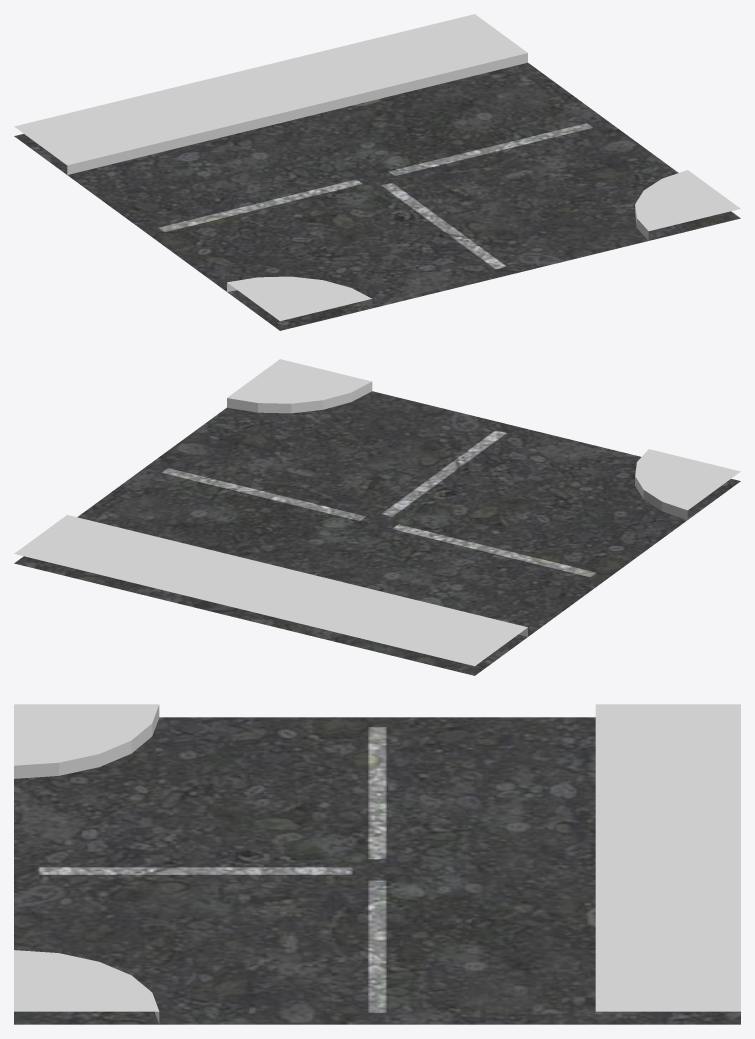
Rendered from road2.fbx.
The picture shows the model from 3 angles, top to bottom: view 1: azimuth 30°, elevation 25°; view 2: azimuth 150°, elevation 25°; view 3: azimuth 270°, elevation 25°; orthographic projection. The views are drawn at different scales.
Visible parts, largest first — view 1: Plane.001; view 2: Plane.001; view 3: Plane.001.
Part boxes in pixels (bbox=[...]): Plane.001: bbox=[14, 14, 740, 330]; Plane.001: bbox=[14, 359, 740, 675]; Plane.001: bbox=[14, 704, 740, 1024].
Size of the model in its own units: 1000 by 20 by 1000.
